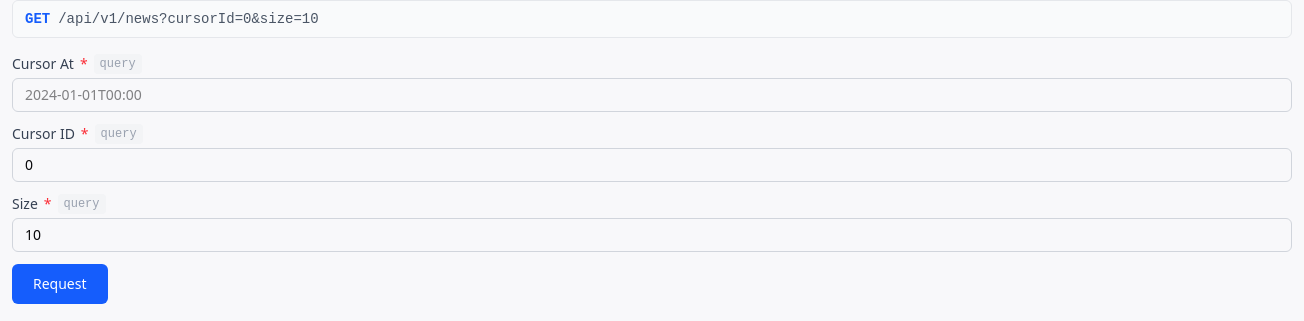
EndpointPanel › 입력 변경 시 preview URL이 갱신된다
// cursorId 값을 0 → 999로 변경
In the field below "Cursor ID": (652, 165) [12, 148, 1292, 182], type "999"
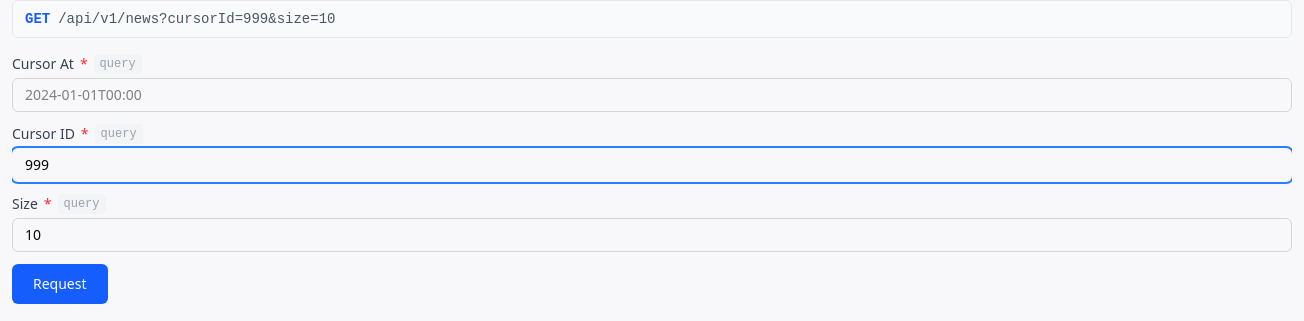
Expected: the text "cursorId=999" is shown, [58, 11, 336, 27]
